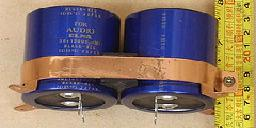Electrolytic-capacitor: (21, 6, 123, 118), (124, 6, 220, 124)
